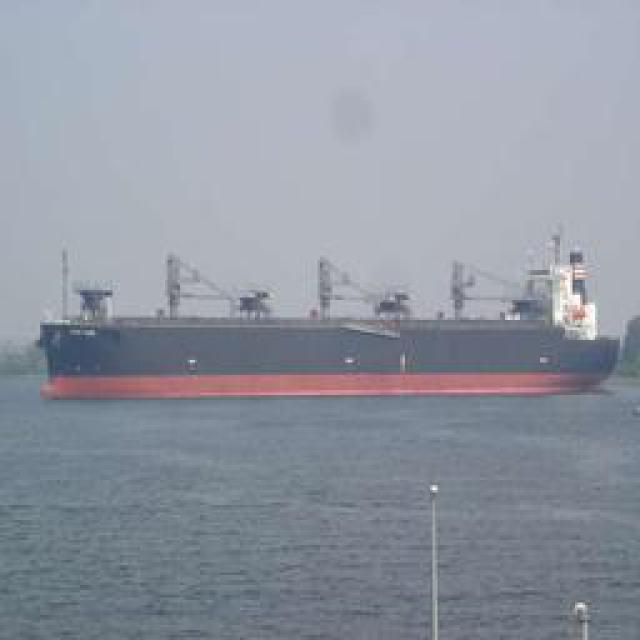Ship: (36, 247, 616, 387)
